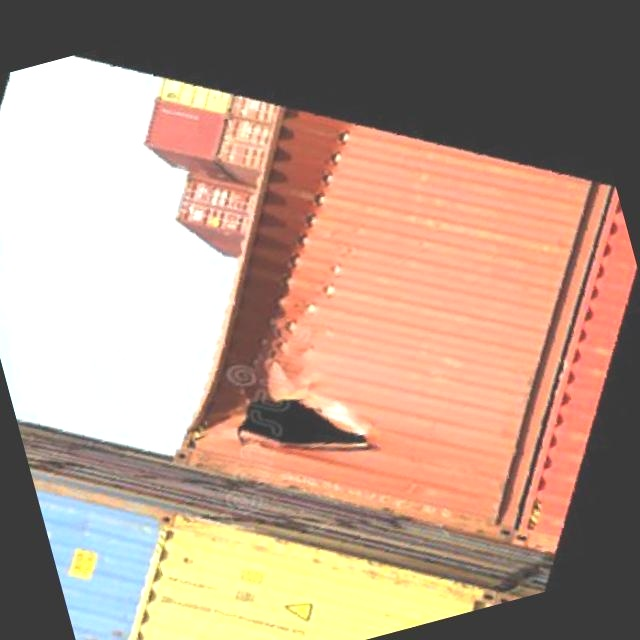Dent: (244, 119, 395, 364)
Hole: (132, 292, 290, 475), (197, 348, 390, 497)
